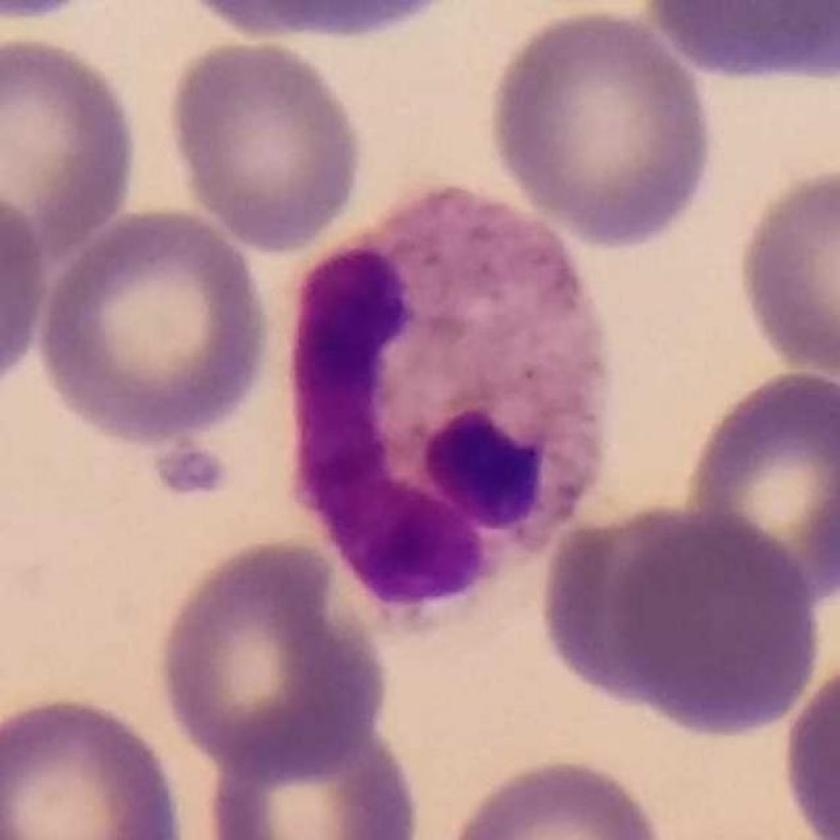eosinophil: (287, 174, 617, 636)
